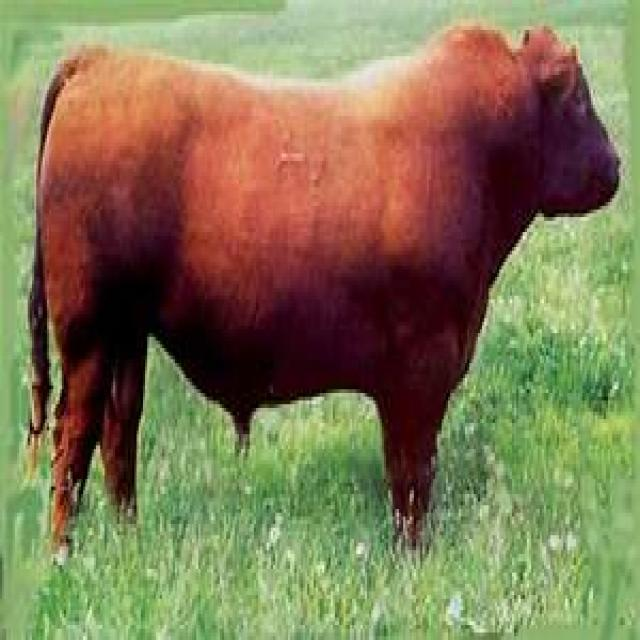cow: (29, 29, 619, 558)
